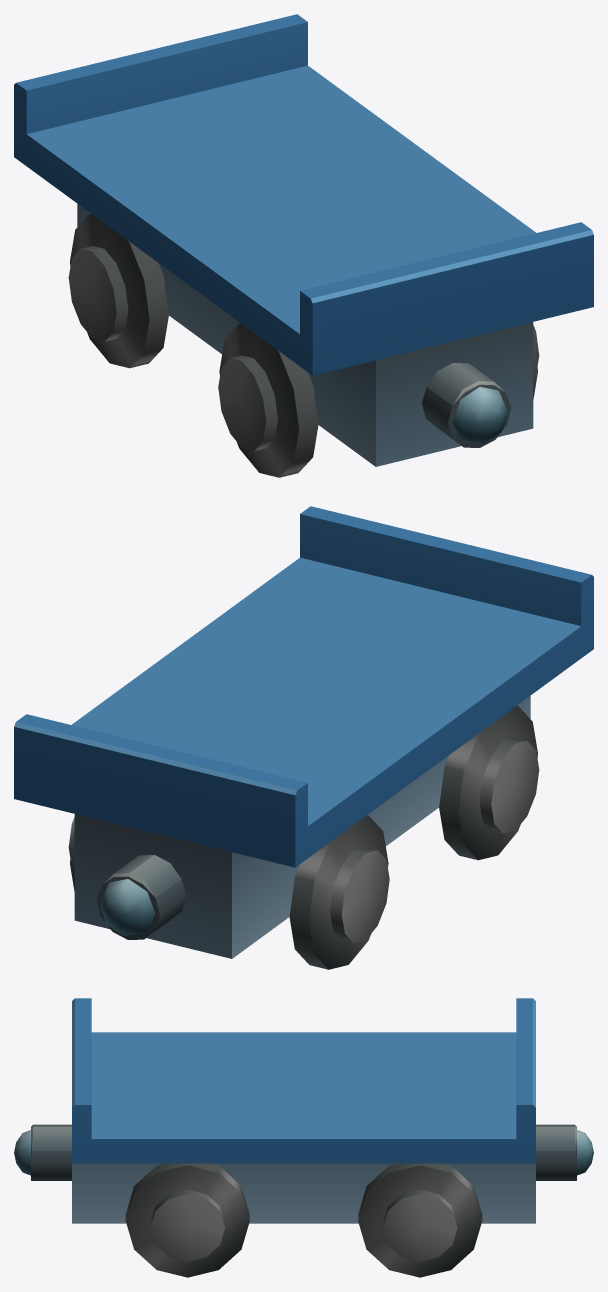
Rendered from Carriage_Platform_A.fbx.
The picture shows the model from 3 angles, top to bottom: view 1: azimuth 30°, elevation 25°; view 2: azimuth 150°, elevation 25°; view 3: azimuth 270°, elevation 25°; orthographic projection. The views are drawn at different scales.
Parts seen in each view (by area): view 1: Carriage_Platform_A; view 2: Carriage_Platform_A; view 3: Carriage_Platform_A.
Part boxes in pixels (<box>): Carriage_Platform_A: <box>14,14,593,477</box>; Carriage_Platform_A: <box>14,506,593,969</box>; Carriage_Platform_A: <box>14,998,593,1277</box>.
Bounding box in the file's own units: 284 × 224 × 653.
